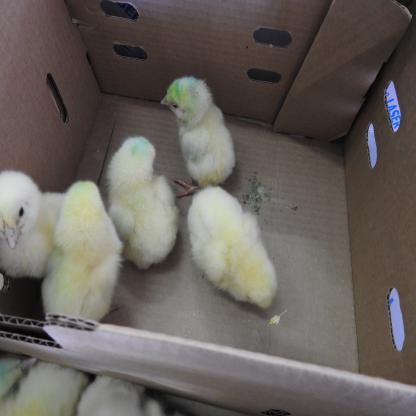Chickrotationtrack_idkeyframe: (189, 186, 274, 308), (102, 132, 181, 262), (44, 171, 116, 313), (153, 78, 235, 180), (0, 153, 66, 274)
